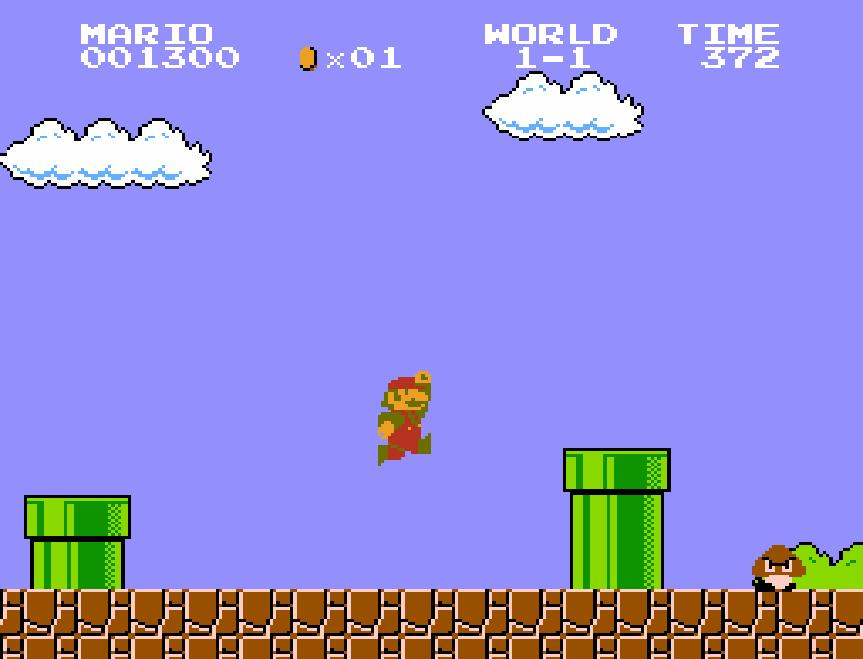big_mario: (376, 369, 434, 467)
